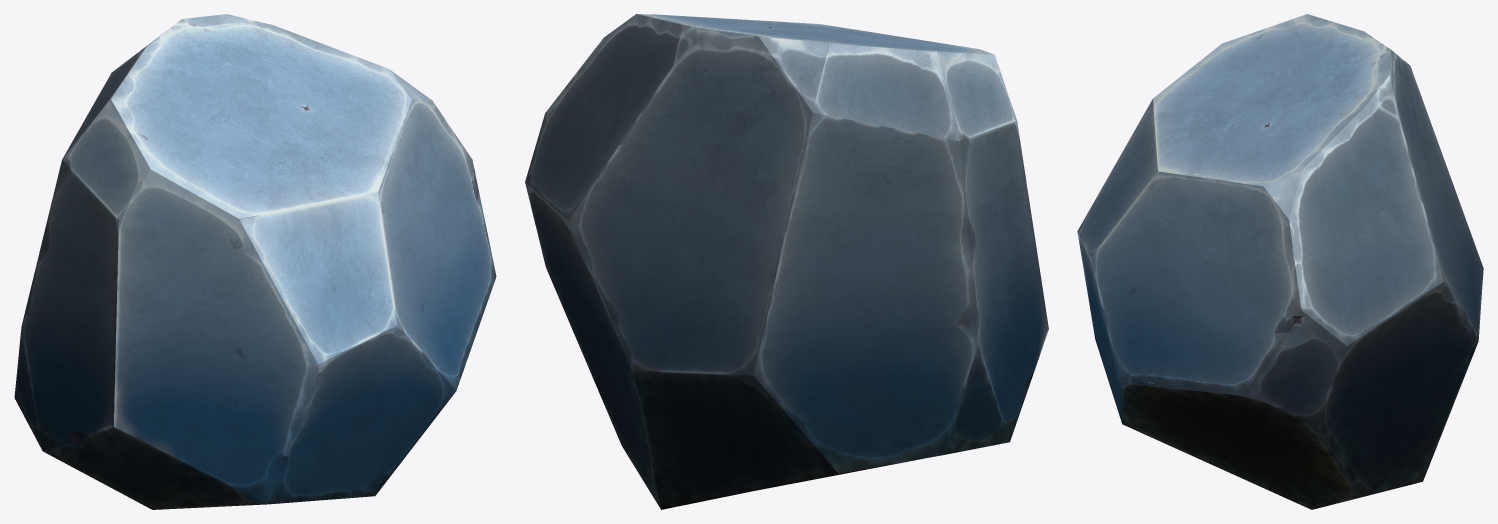
Rendered from rock.gltf.
The picture shows the model from 3 angles, left to right: view 1: azimuth 30°, elevation 25°; view 2: azimuth 150°, elevation 25°; view 3: azimuth 270°, elevation 25°; orthographic projection. The views are drawn at different scales.
Visible parts, largest first — view 1: Object_30; view 2: Object_30; view 3: Object_30.
Part boxes in pixels (x1,y1,x2,y2): Object_30: [14, 14, 496, 509]; Object_30: [525, 14, 1048, 509]; Object_30: [1077, 14, 1483, 509].
Bounding box in the file's own units: 1.15 × 1.2 × 1.03.
Materials: 1 (1 with a texture image).
